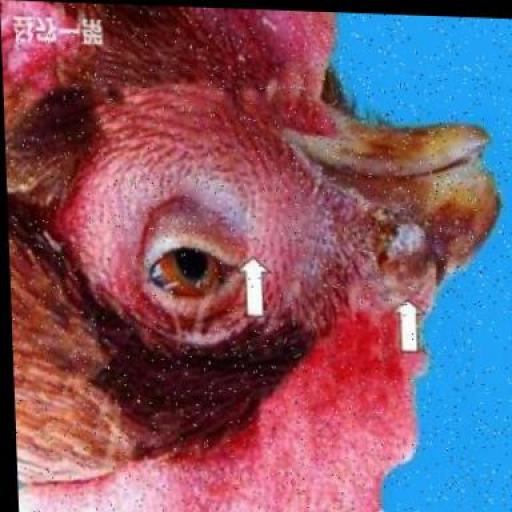disease: (106, 174, 265, 345)
